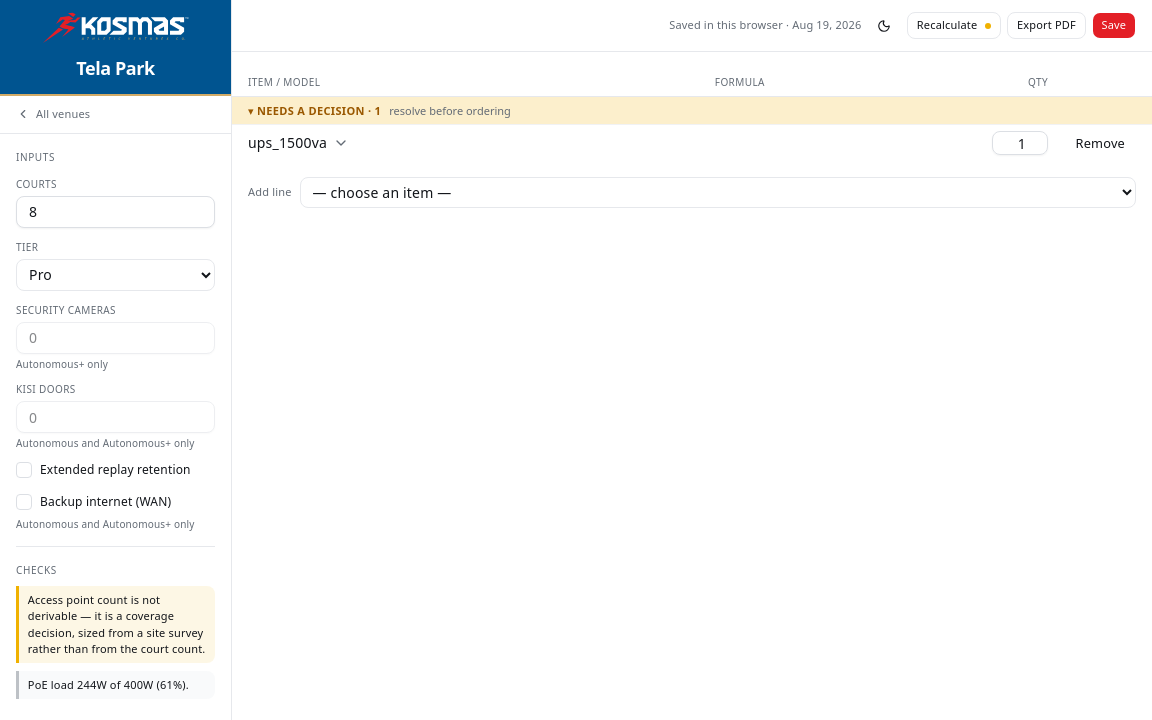
Scenario: names the other TAB, not another account, when the venue is local
This screenshot has width=1152, height=720.
Click the button "Save" at point(1114, 26), box [1092,12,1136,39]
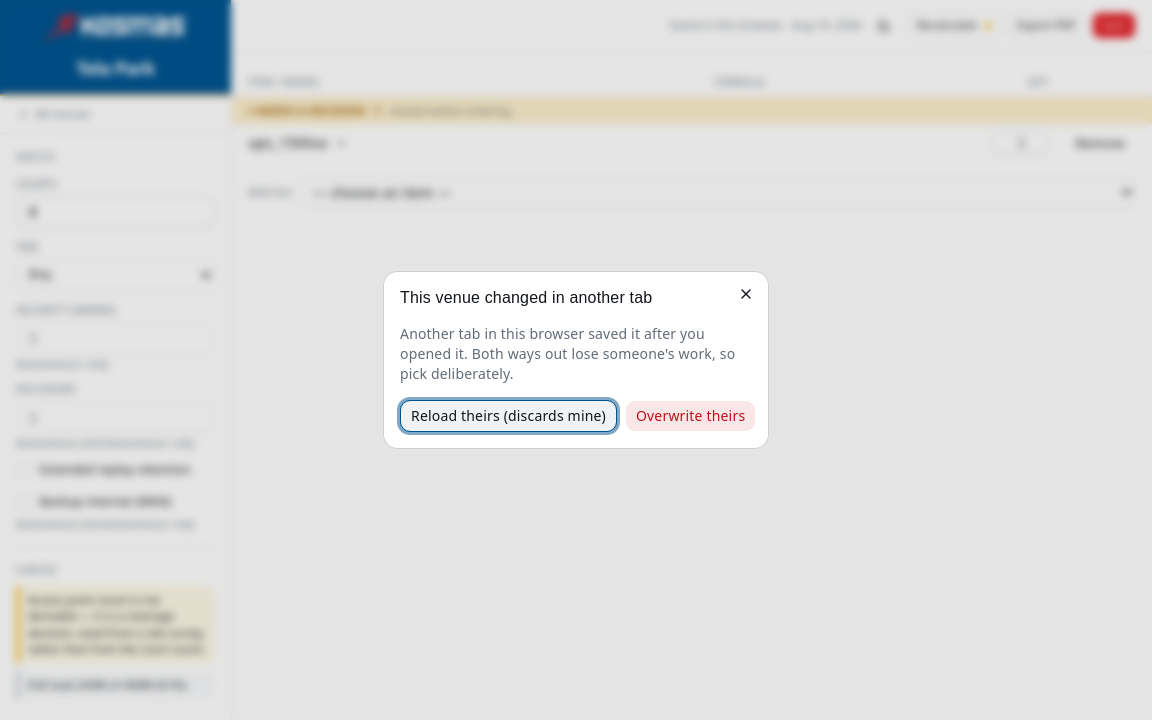
Expected: the heading "This venue changed in another tab" is shown, [400,289,652,306]
Expected: the text "Another tab in this browser saved it" is shown, [400,324,705,363]
